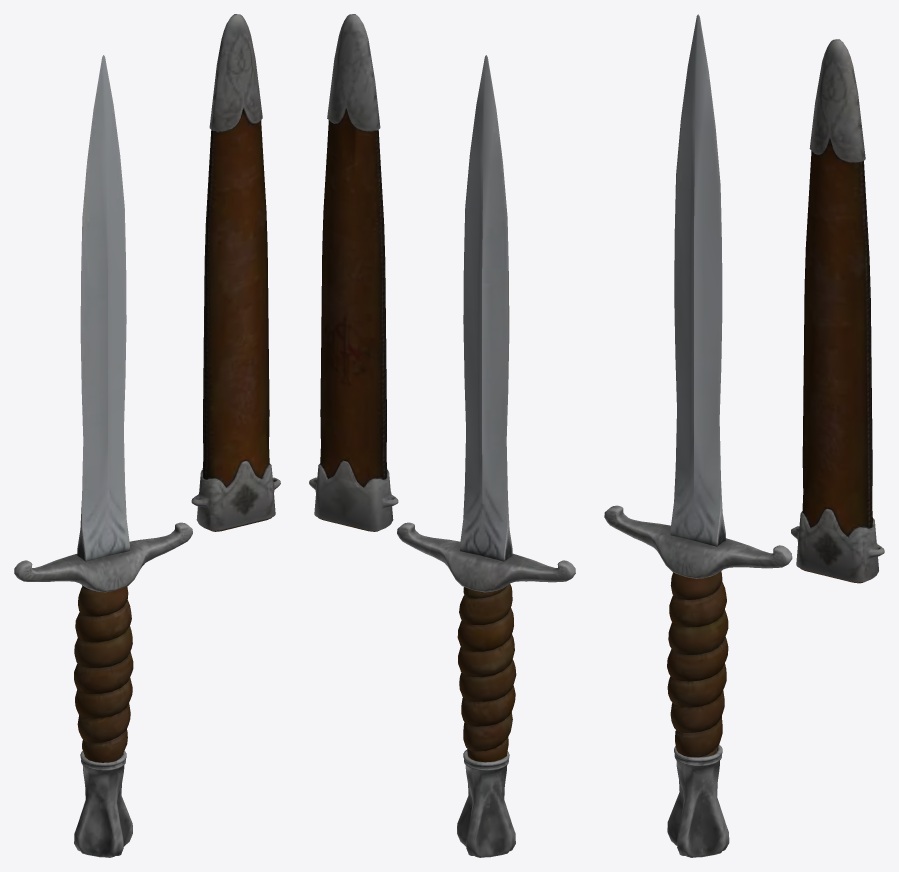
The model's file is ornate_medieval_dagger.glb.
The picture shows the model from 3 angles, left to right: view 1: azimuth 30°, elevation 25°; view 2: azimuth 150°, elevation 25°; view 3: azimuth 330°, elevation 25°; orthographic projection. The views are drawn at different scales.
Parts seen in each view (by area): view 1: ornate_medieval_dagger; view 2: ornate_medieval_dagger; view 3: ornate_medieval_dagger.
Boxes of the visible parts, x1,y1,x2,y2 form: ornate_medieval_dagger: (14,14,280,857); ornate_medieval_dagger: (309,14,575,857); ornate_medieval_dagger: (604,14,884,857).
Bounding box in the file's own units: 0.1201 × 0.3489 × 0.025.
Materials: 1 (1 with a texture image).
